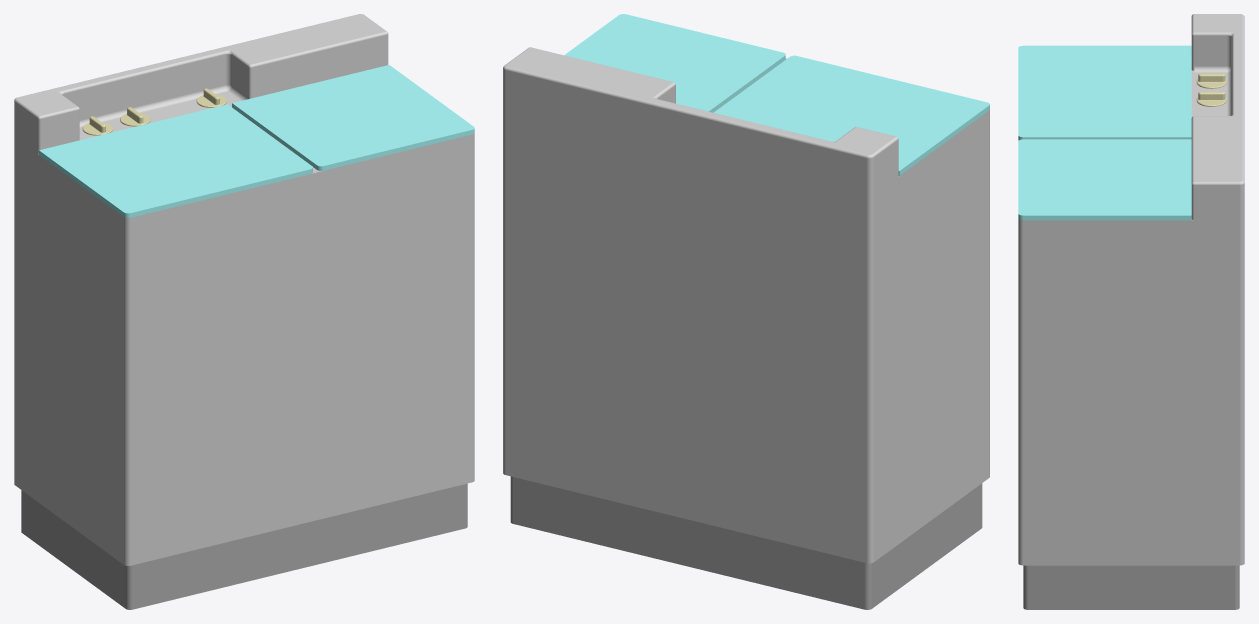
File: washing_machine.gltf
The picture shows the model from 3 angles, left to right: view 1: azimuth 30°, elevation 25°; view 2: azimuth 150°, elevation 25°; view 3: azimuth 270°, elevation 25°; orthographic projection. The views are drawn at different scales.
Parts seen in each view (by area): view 1: body_clone, base_clone, lid1_clone, lid2_clone; view 2: body_clone, base_clone, lid1_clone, lid2_clone; view 3: body_clone, lid1_clone, lid2_clone, base_clone, switch2_clone, switch1_clone.
Boxes of the visible parts, left/top/right/bottom form: body_clone: left=14, top=14, right=474, bottom=565; base_clone: left=21, top=483, right=467, bottom=609; lid1_clone: left=39, top=104, right=312, bottom=217; lid2_clone: left=232, top=65, right=474, bottom=170; body_clone: left=503, top=47, right=989, bottom=563; base_clone: left=510, top=476, right=982, bottom=609; lid1_clone: left=713, top=55, right=989, bottom=175; lid2_clone: left=564, top=14, right=785, bottom=112; body_clone: left=1018, top=14, right=1244, bottom=565; lid1_clone: left=1018, top=45, right=1191, bottom=140; lid2_clone: left=1018, top=139, right=1191, bottom=220; base_clone: left=1023, top=565, right=1239, bottom=609; switch2_clone: left=1196, top=91, right=1226, bottom=106; switch1_clone: left=1196, top=73, right=1226, bottom=88.
Size of the model in its own units: 0.78 by 0.92 by 0.44.
